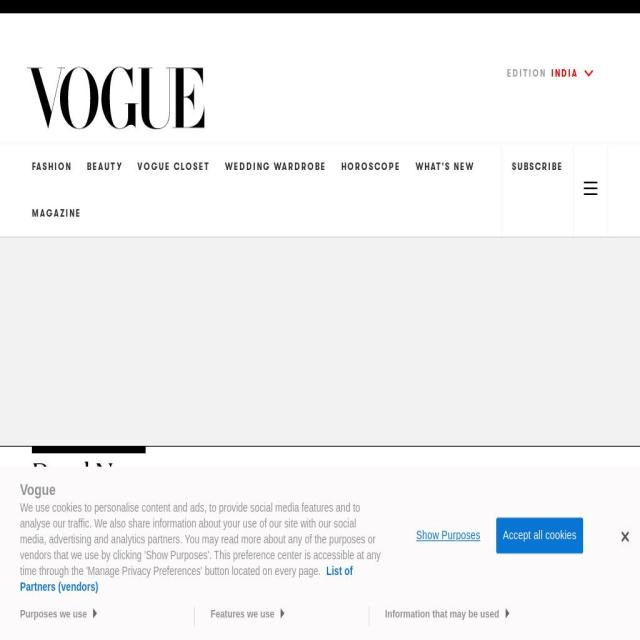button: (32, 67, 205, 129), (20, 564, 353, 594), (491, 49, 608, 97), (225, 142, 327, 190), (137, 142, 210, 190), (573, 142, 608, 236), (496, 518, 584, 554), (341, 142, 401, 190), (416, 142, 475, 190), (406, 518, 484, 554), (32, 189, 82, 237), (32, 142, 72, 190), (87, 142, 123, 190)
heading: (32, 446, 146, 486), (20, 479, 56, 500)
image: (0, 237, 640, 446), (180, 532, 312, 640), (476, 532, 608, 640), (27, 67, 205, 129), (583, 178, 598, 198), (621, 528, 629, 544), (584, 67, 593, 79)
link: (510, 158, 562, 222)
text: (20, 500, 381, 578), (506, 52, 552, 94), (385, 606, 499, 622), (20, 606, 88, 622), (211, 606, 275, 622), (551, 67, 578, 79)
